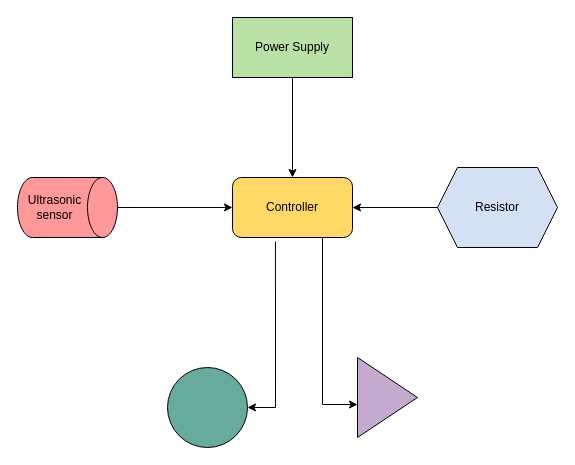
Some shapes in this 575 by 465 pixel diagram are drawn without their labels. The centre of each missing label's shape, as x and y in pixels:
"Buzzer" belongs at pixel 207 407.
"LED" belongs at pixel 387 397.
